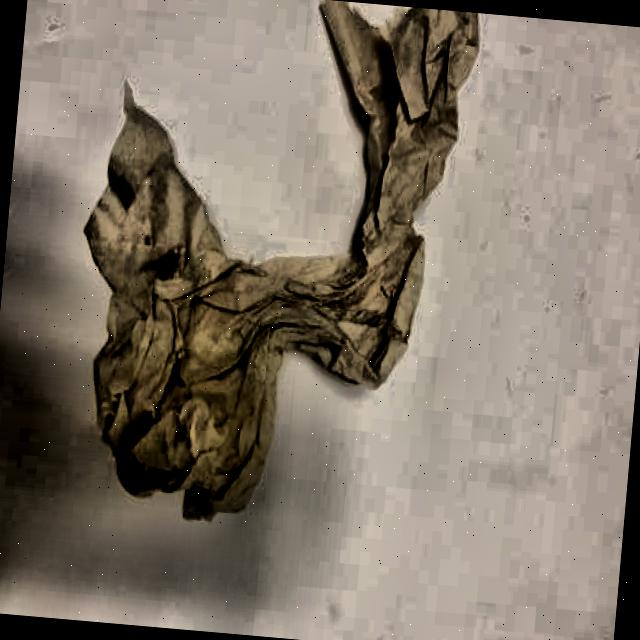trash: (54, 0, 471, 526)
